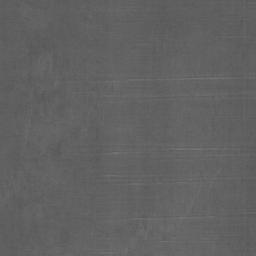Waist folding: (105, 76, 256, 82), (171, 147, 256, 155), (134, 215, 213, 221), (0, 203, 55, 207), (133, 181, 161, 187), (214, 178, 256, 180)
